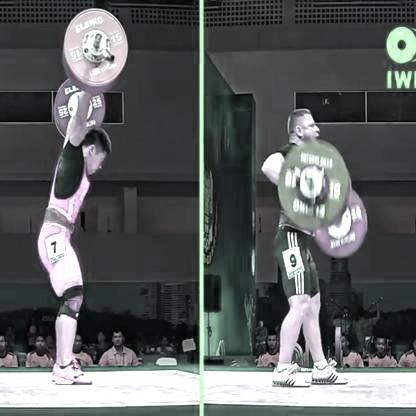Barbell: (302, 173, 317, 187), (93, 32, 105, 45)
